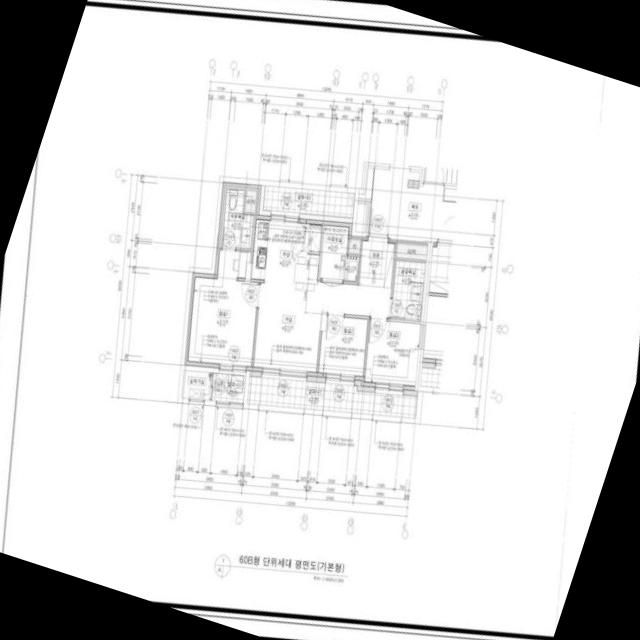background: (0, 0, 640, 640)
space_balconi: (247, 374, 417, 417), (263, 185, 355, 218), (212, 373, 245, 402)
space_bedroom: (184, 249, 258, 370), (364, 319, 420, 390), (318, 315, 368, 386)
space_elevator_hall: (358, 164, 457, 239)
space_front: (358, 235, 395, 287)
space_kitchen: (251, 215, 324, 284)
space_living_room: (251, 280, 391, 376)
space_multipurpose_space: (319, 221, 359, 282)
space_other: (395, 240, 427, 259), (245, 190, 256, 212), (348, 236, 362, 253)
space_outdoor_room: (182, 370, 212, 400)
space_toilet: (391, 260, 426, 320), (221, 188, 254, 249)
